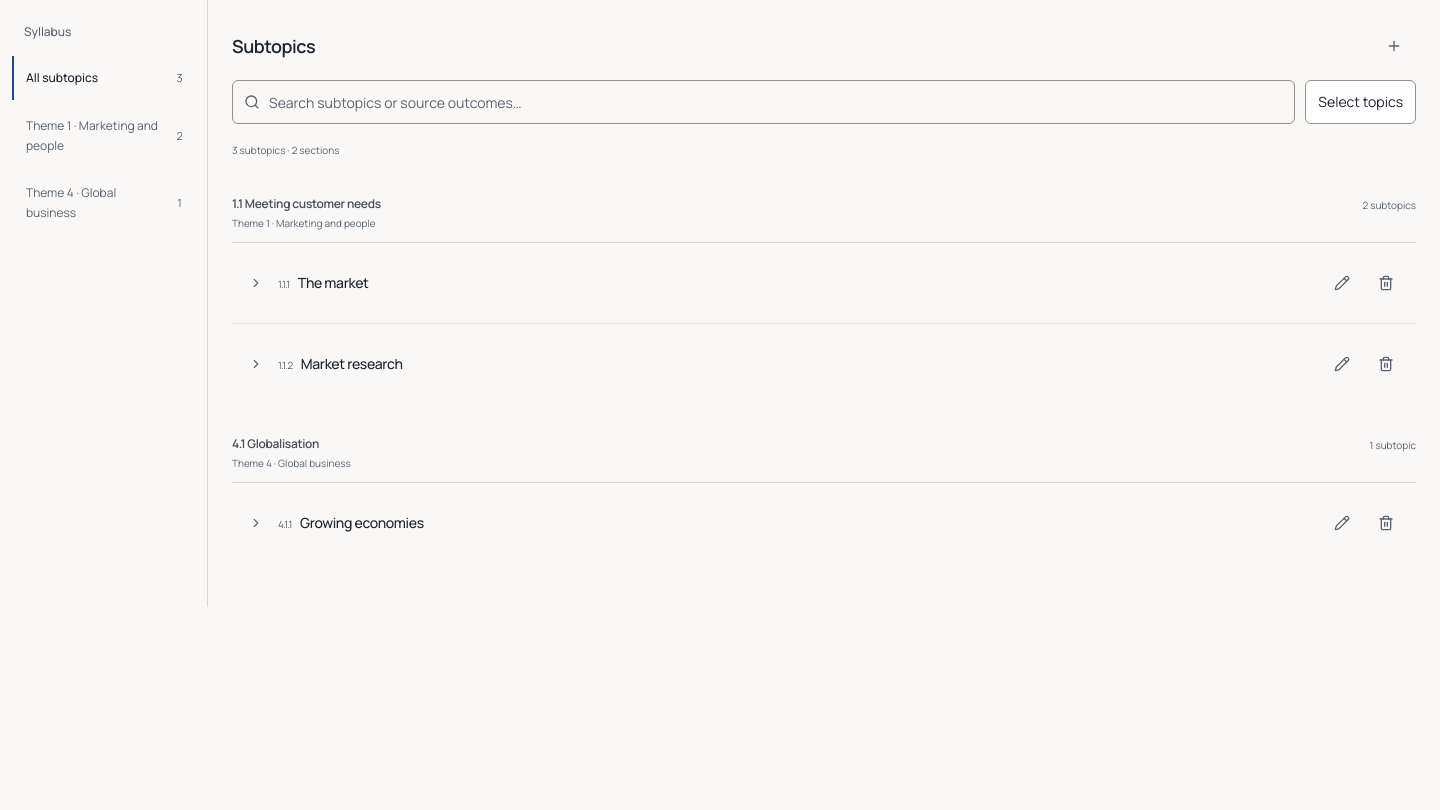
Test case: ProfileSubtopicEditor › gives icon-only topic actions accessible names and tooltips
Expected: the button named "Add subtopic" is empty, [1372,24,1416,68]
Expected: the button named "Edit The market" is empty, [1320,261,1364,305]
Click the button "Select topics".
click(1361, 102)  # box [1305,80,1416,124]
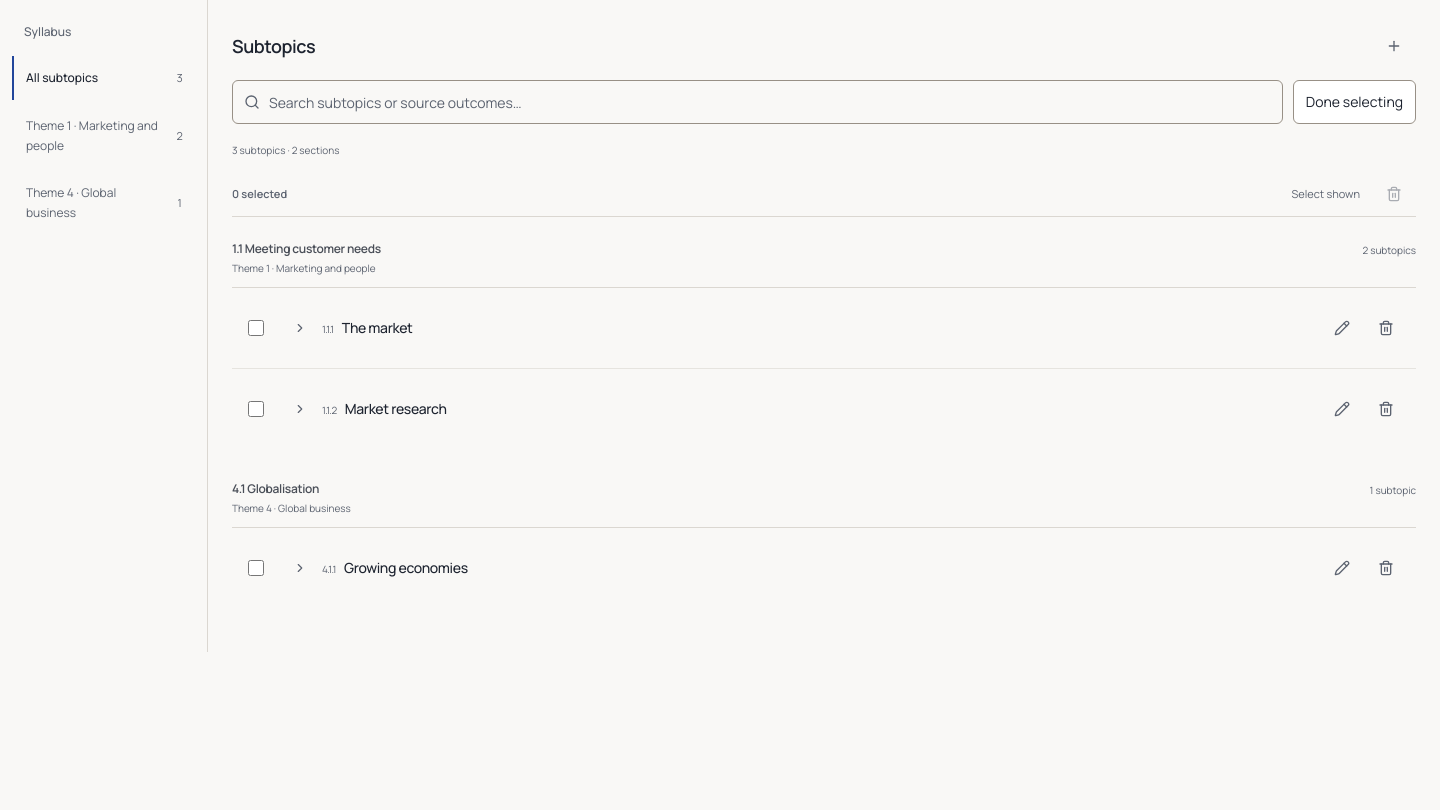
Expected: the button named "Remove selected" is empty, [1372,172,1416,216]
